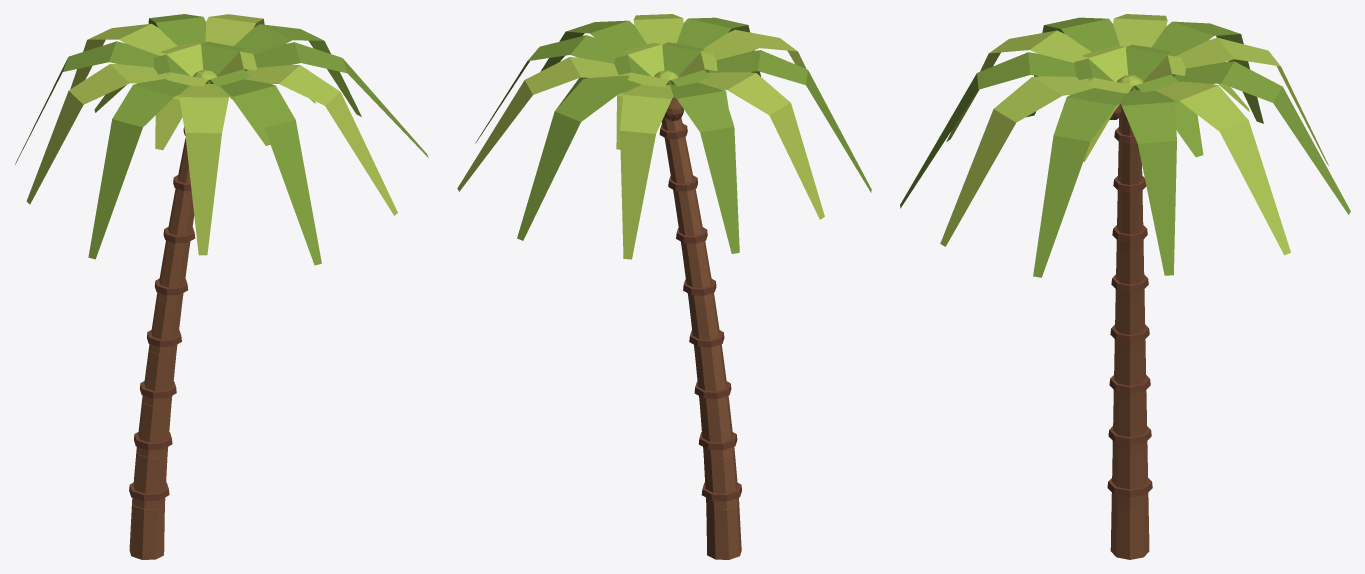
The model's file is bay-palm-tree.glb.
3 renders of one model, left to right at view 1: azimuth 30°, elevation 25°; view 2: azimuth 150°, elevation 25°; view 3: azimuth 270°, elevation 25°, orthographic. The views are drawn at different scales.
Visible parts, largest first — view 1: GEO-palm_frond_8, GEO-palm_frond_7, GEO-palm_frond_6, GEO-palm_frond_9, GEO-palm_frond_5, GEO-palm_frond_10, GEO-palm_frond_0, GEO-palm_frond_3, GEO-palm_frond_4, GEO-palm_trunk_0, GEO-palm_trunk_1, GEO-palm_trunk_2 (+12 smaller); view 2: GEO-palm_frond_3, GEO-palm_frond_4, GEO-palm_frond_2, GEO-palm_frond_5, GEO-palm_frond_1, GEO-palm_frond_6, GEO-palm_trunk_0, GEO-palm_frond_0, GEO-palm_frond_7, GEO-palm_frond_10, GEO-palm_trunk_1, GEO-palm_frond_8 (+12 smaller); view 3: GEO-palm_frond_0, GEO-palm_frond_10, GEO-palm_frond_1, GEO-palm_frond_9, GEO-palm_frond_2, GEO-palm_frond_8, GEO-palm_frond_4, GEO-palm_frond_3, GEO-palm_frond_7, GEO-palm_trunk_0, GEO-palm_frond_6, GEO-palm_trunk_1 (+12 smaller).
Part boxes in pixels (x1,y1,x2,y2): GEO-palm_frond_8: (220, 79, 321, 265); GEO-palm_frond_7: (179, 84, 228, 255); GEO-palm_frond_6: (88, 78, 189, 259); GEO-palm_frond_9: (244, 65, 397, 215); GEO-palm_frond_5: (26, 64, 169, 204); GEO-palm_frond_10: (243, 42, 428, 157); GEO-palm_frond_0: (234, 24, 361, 116); GEO-palm_frond_3: (70, 23, 177, 89); GEO-palm_frond_4: (15, 41, 170, 164); GEO-palm_trunk_0: (129, 501, 164, 559); GEO-palm_trunk_1: (132, 450, 167, 508); GEO-palm_trunk_2: (136, 399, 171, 458); GEO-palm_frond_3: (620, 84, 673, 259); GEO-palm_frond_4: (670, 82, 739, 253); GEO-palm_frond_2: (517, 75, 641, 240); GEO-palm_frond_5: (698, 72, 824, 219); GEO-palm_frond_1: (457, 57, 631, 191); GEO-palm_frond_6: (704, 50, 871, 192); GEO-palm_trunk_0: (706, 501, 741, 559); GEO-palm_frond_0: (475, 35, 629, 143); GEO-palm_frond_7: (699, 29, 806, 68); GEO-palm_frond_10: (540, 20, 646, 71); GEO-palm_trunk_1: (703, 450, 738, 509); GEO-palm_frond_8: (677, 17, 760, 76); GEO-palm_frond_0: (1120, 90, 1176, 275); GEO-palm_frond_10: (1033, 88, 1123, 277); GEO-palm_frond_1: (1155, 81, 1290, 255); GEO-palm_frond_9: (940, 76, 1093, 246); GEO-palm_frond_2: (1171, 61, 1350, 214); GEO-palm_frond_8: (900, 52, 1092, 208); GEO-palm_frond_4: (1151, 21, 1263, 123); GEO-palm_frond_3: (1175, 37, 1328, 165); GEO-palm_frond_7: (946, 30, 1091, 141); GEO-palm_trunk_0: (1110, 498, 1149, 559); GEO-palm_frond_6: (1026, 17, 1119, 117); GEO-palm_trunk_1: (1111, 446, 1148, 506).
Bounding box in the file's own units: 3.71 × 4.9 × 3.84.
